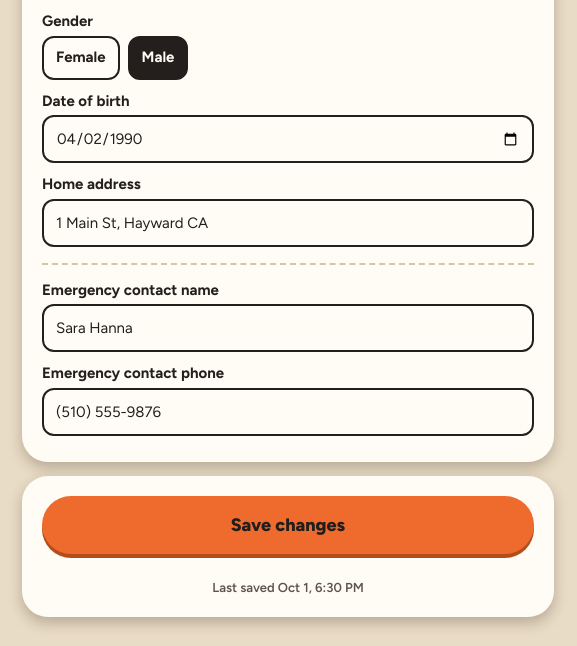
Test: servant registration form › replaces the form with a confirmation after the first submit
(page scrolled)
Step 1. Click the button "Save changes" → (288, 525), box x1=42 y1=496 x2=534 y2=554
(page scrolled)
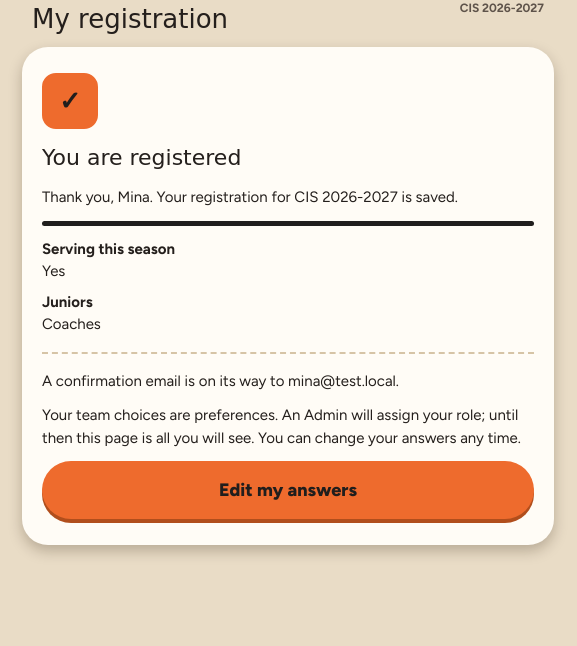
Now the heading "You are registered" is shown, box x1=42 y1=145 x2=241 y2=170
Now the text "Thank you, Mina" is shown, box x1=42 y1=188 x2=458 y2=206
Now the text "A confirmation email is on its way to mina@test.local." is shown, box x1=42 y1=372 x2=399 y2=390
